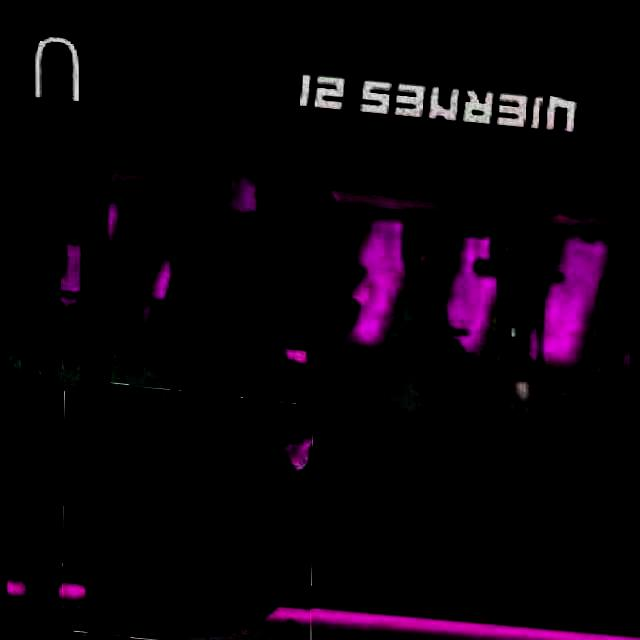barbell: (61, 379, 313, 640)
